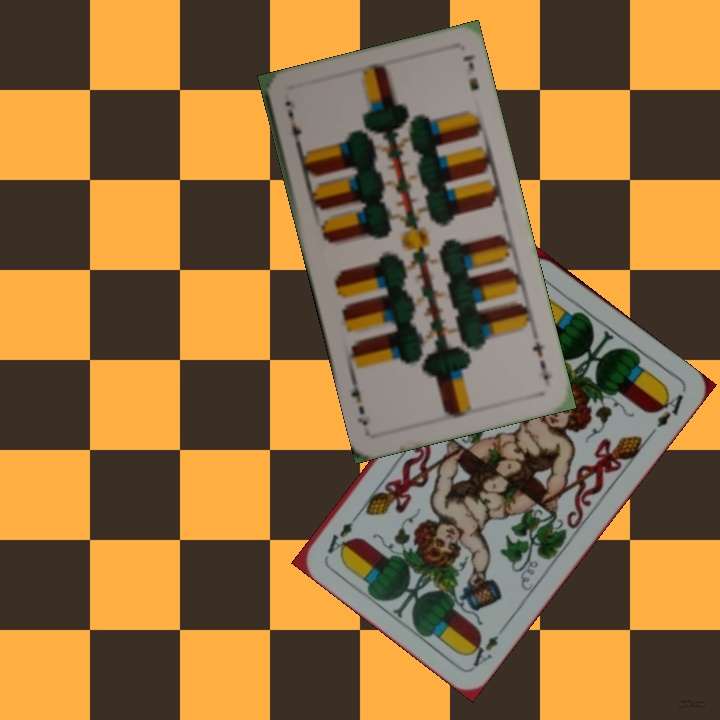E7: (528, 337, 555, 384), (283, 106, 305, 152)
EA: (465, 620, 510, 670)
